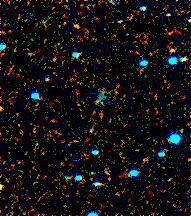star: (65, 17, 95, 47)
